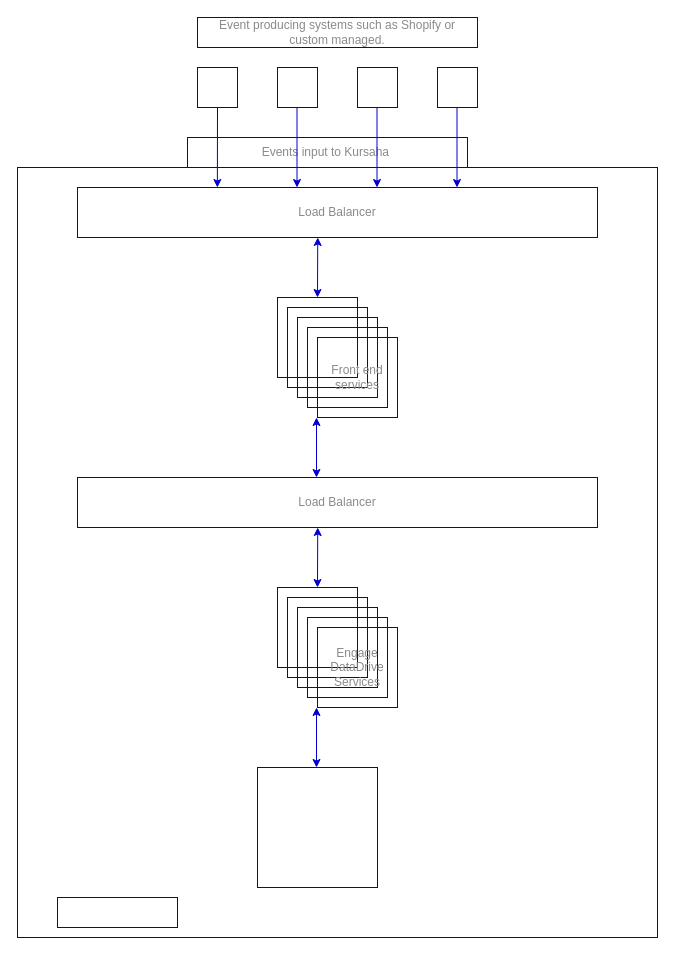
Image size: 675x955. Some labels were removed from this diagram. The centre of each missing label's shape, as x and y in pixels:
"Kursaha Servers" belongs at (x=117, y=912).
"Temporal Cluster" belongs at (x=317, y=827).
